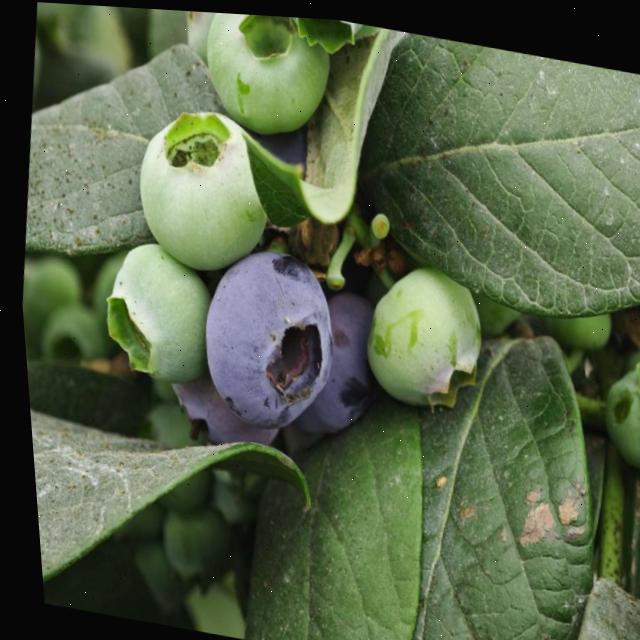RipeBlueBerry: (184, 232, 347, 442), (283, 272, 381, 446)
UnripeBlueBerry: (119, 95, 280, 279), (347, 251, 491, 413), (86, 233, 215, 388), (193, 9, 340, 142)
